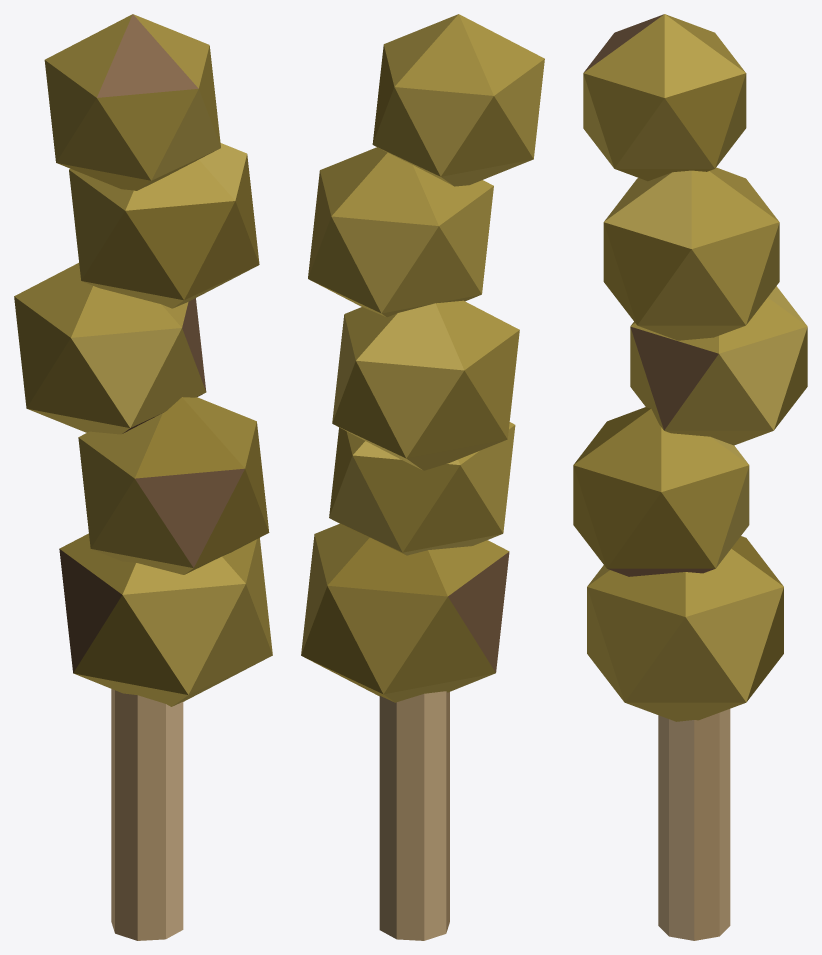
File: Plant_TreePoplar_c.fbx
The picture shows the model from 3 angles, left to right: view 1: azimuth 30°, elevation 25°; view 2: azimuth 150°, elevation 25°; view 3: azimuth 270°, elevation 25°; orthographic projection. The views are drawn at different scales.
Visible parts, largest first — view 1: Plant_TreePoplar_c; view 2: Plant_TreePoplar_c; view 3: Plant_TreePoplar_c.
Boxes of the visible parts, box(x1,y1,x2,y2) form: Plant_TreePoplar_c: box(14, 14, 272, 940); Plant_TreePoplar_c: box(301, 14, 544, 940); Plant_TreePoplar_c: box(573, 14, 807, 940).
Size of what is drawn, in the model's own units: 0.6684 by 2.76 by 0.6532.
